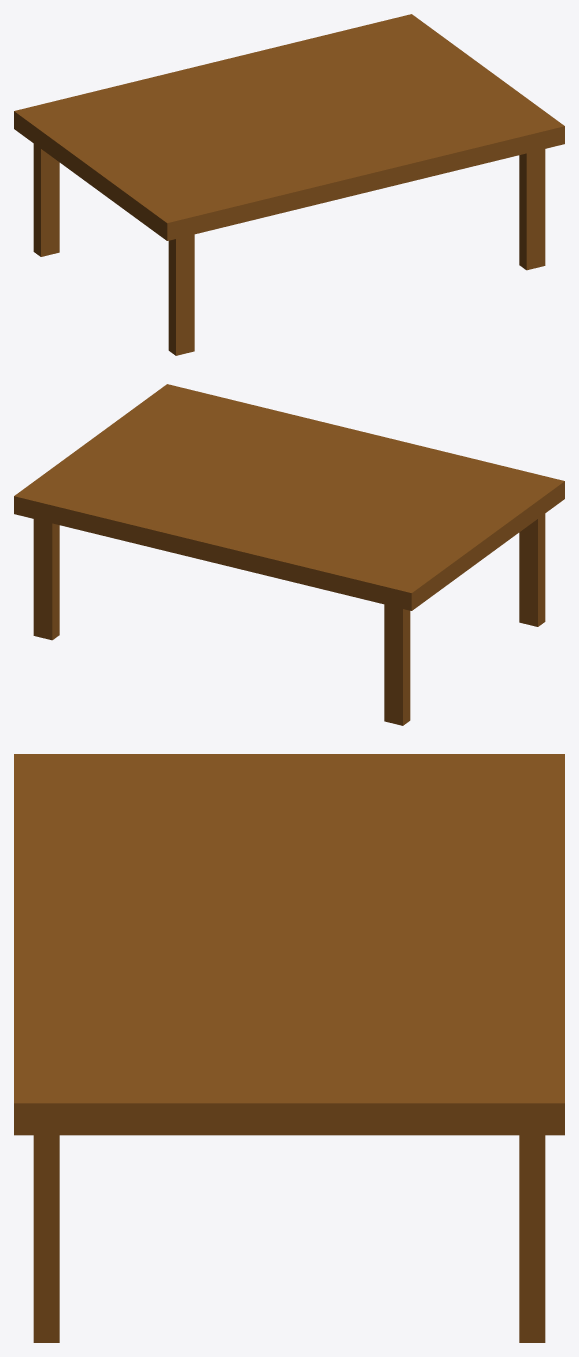
The model's file is table.fbx.
3 views of the same model, one above another, from view 1: azimuth 30°, elevation 25°; view 2: azimuth 150°, elevation 25°; view 3: azimuth 270°, elevation 25° (orthographic). The views are drawn at different scales.
Parts seen in each view (by area): view 1: Cube.006; view 2: Cube.006; view 3: Cube.006.
Boxes of the visible parts, box(x1,y1,x2,y2) form: Cube.006: box(14, 14, 564, 355); Cube.006: box(14, 384, 564, 725); Cube.006: box(14, 754, 564, 1342).
Bounding box in the file's own units: 2588 × 872 × 1726.
